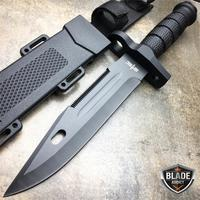knife: (4, 8, 180, 199)
